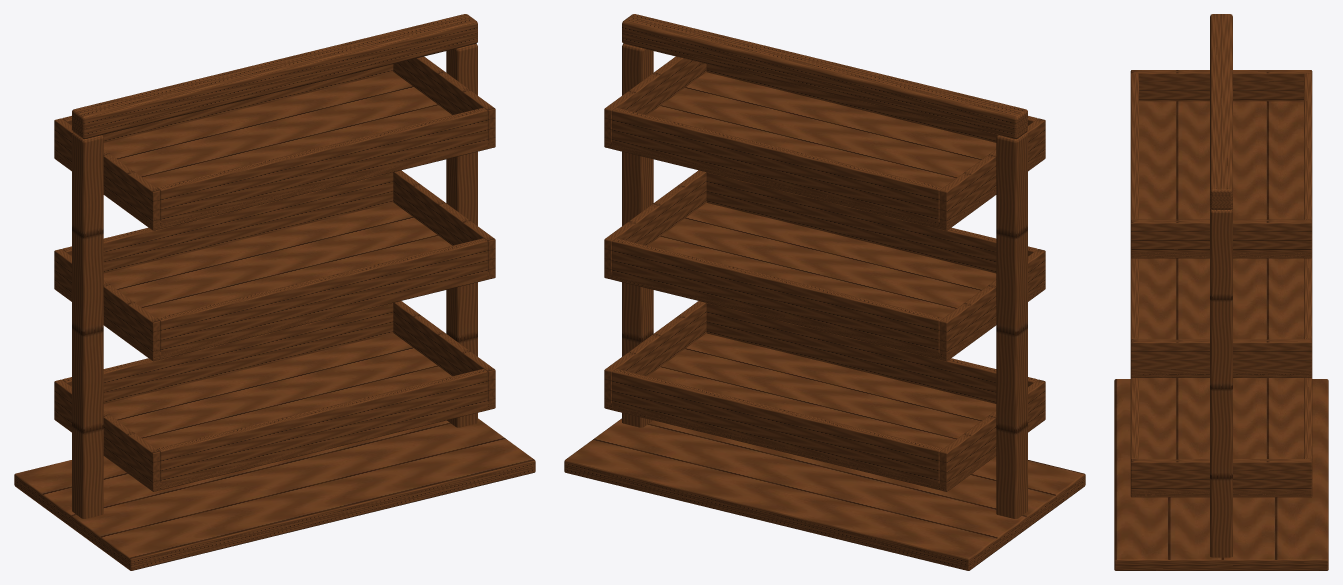
File: creature-husbandry-and-transport-nesting-material-rack-42bff97e__24012.glb
The picture shows the model from 3 angles, left to right: view 1: azimuth 30°, elevation 25°; view 2: azimuth 150°, elevation 25°; view 3: azimuth 270°, elevation 25°; orthographic projection. The views are drawn at different scales.
Parts seen in each view (by area): view 1: nesting-material-rack; view 2: nesting-material-rack; view 3: nesting-material-rack.
Boxes of the visible parts, <box> form: nesting-material-rack: <box>14,14,535,570</box>; nesting-material-rack: <box>564,14,1085,570</box>; nesting-material-rack: <box>1114,14,1328,570</box>.
Size of the model in its own units: 1.3 by 1.27 by 0.6501.
Materials: 1 (1 with a texture image).
